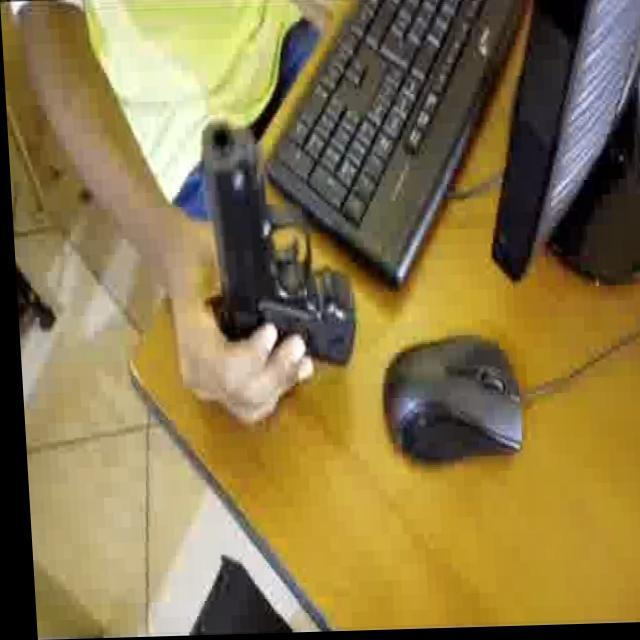weapon: (196, 116, 354, 372)
